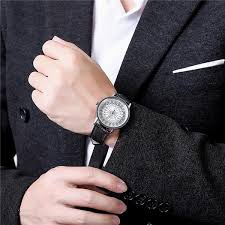hand: (25, 27, 137, 146), (11, 159, 138, 224)
